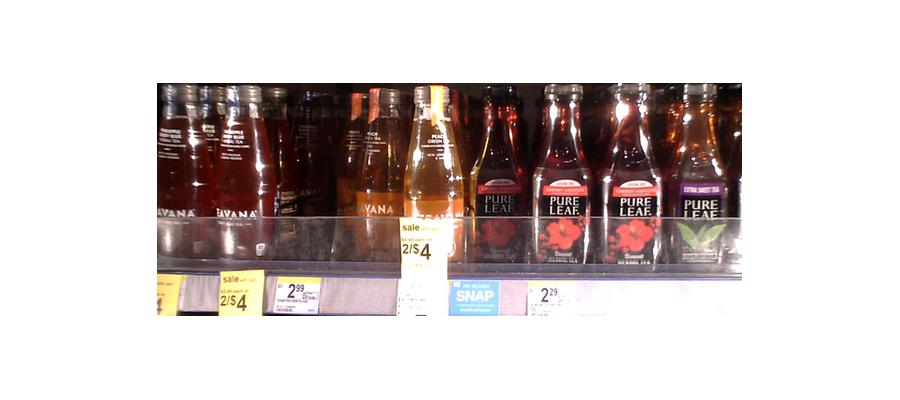bottle: (597, 80, 661, 269), (266, 84, 336, 252), (530, 81, 592, 267), (668, 82, 731, 265), (403, 89, 463, 281), (208, 81, 269, 262), (467, 86, 527, 266), (157, 77, 212, 265), (353, 82, 403, 253)
